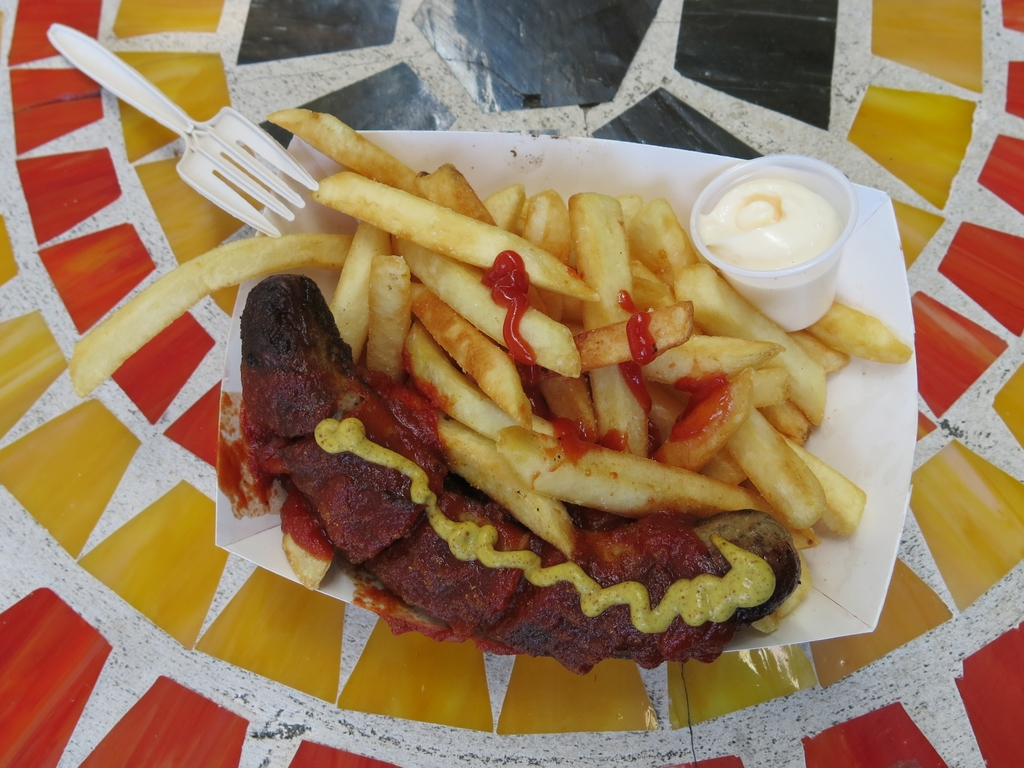French fries: (34, 107, 917, 533)
